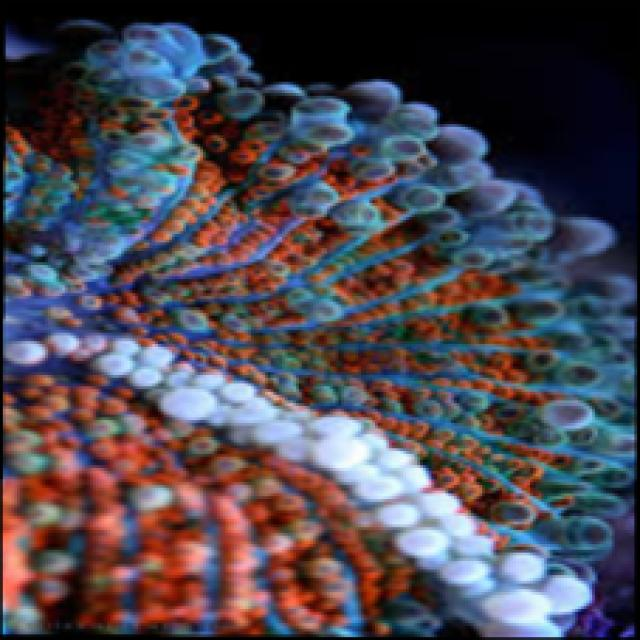Bleached: (108, 342, 590, 635)
Healthy: (7, 24, 633, 635)
